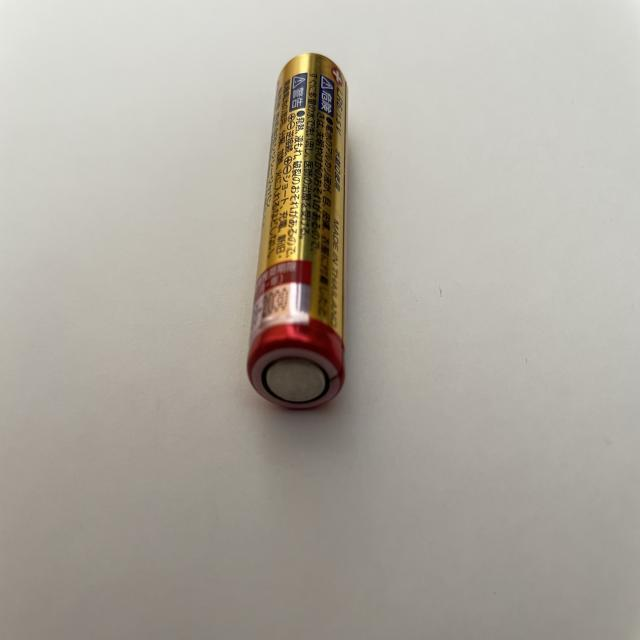hazardous waste: (245, 52, 352, 416)
